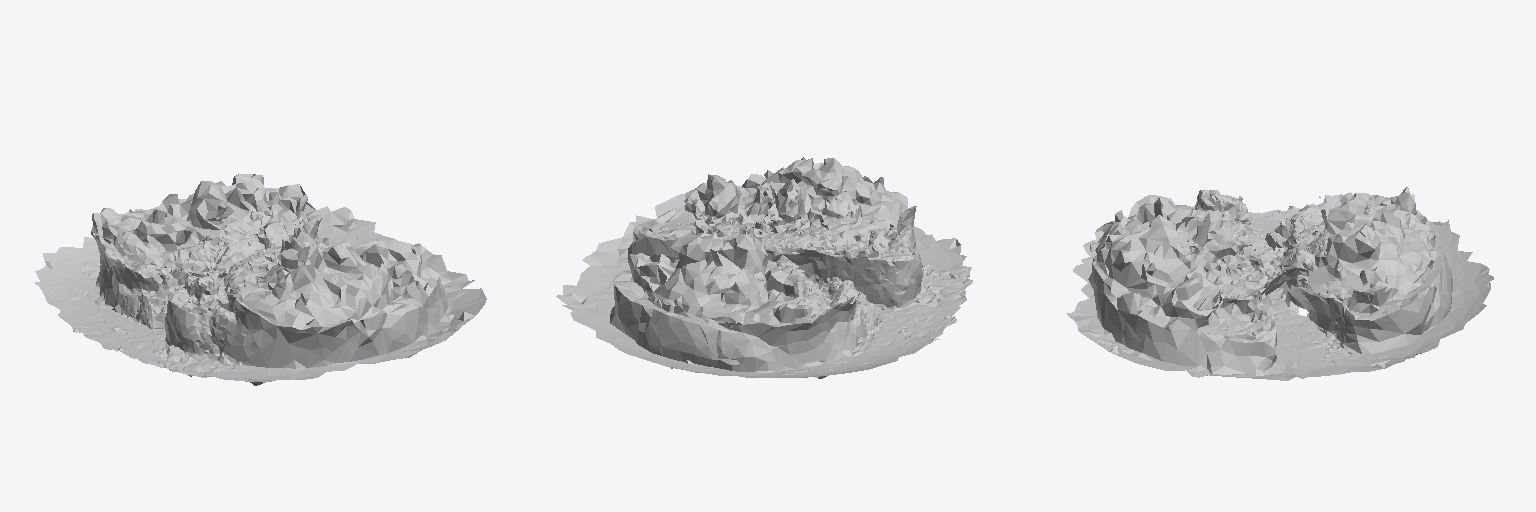
File: EGGS_-_Breakfast_2_10K.obj
The picture shows the model from 3 angles: view 1: azimuth 30°, elevation 25°; view 2: azimuth 150°, elevation 25°; view 3: azimuth 270°, elevation 25°; orthographic projection.
Parts seen in each view (by area): view 1: 10K_default.004; view 2: 10K_default.004; view 3: 10K_default.004.
Boxes of the visible parts, x1,y1,x2,y2 form: 10K_default.004: [35, 174, 486, 385]; 10K_default.004: [556, 157, 972, 378]; 10K_default.004: [1067, 187, 1493, 380].
Size of the model in its own units: 0.1921 by 0.0575 by 0.2007.